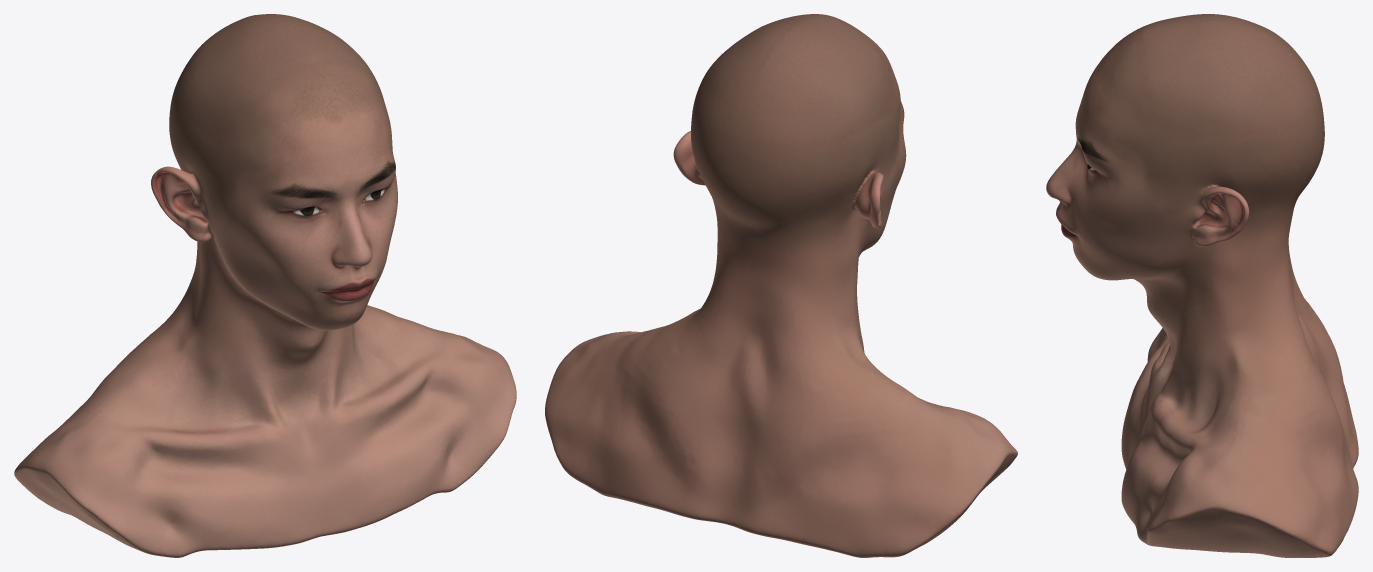
Rendered from rosto_4.glb.
The picture shows the model from 3 angles, left to right: view 1: azimuth 30°, elevation 25°; view 2: azimuth 150°, elevation 25°; view 3: azimuth 270°, elevation 25°; orthographic projection. The views are drawn at different scales.
Bounding box in the file's own units: 1.89 × 1.9 × 1.15.
1 material, 1 textured.
